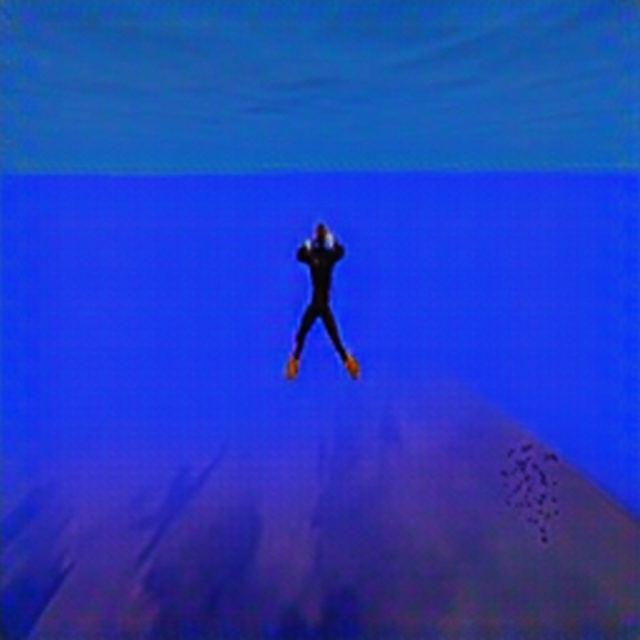diver: (283, 218, 361, 385)
